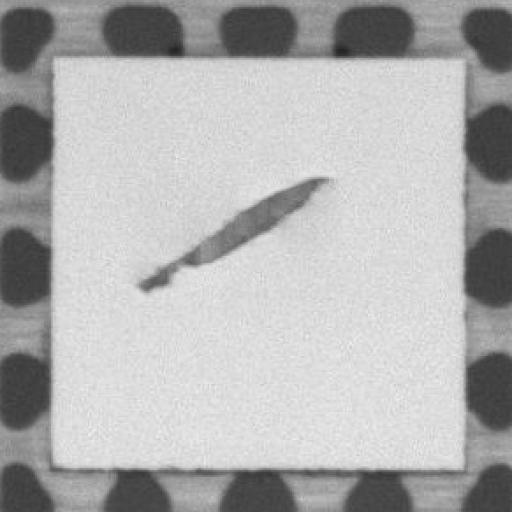DIE_INK: (130, 170, 327, 296)
